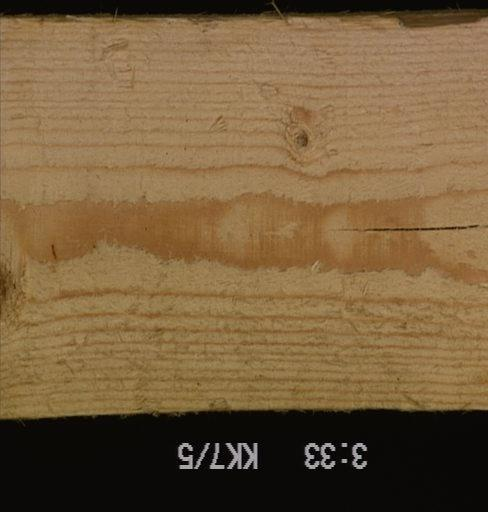sound_knot: (272, 101, 332, 167), (0, 215, 35, 326)
split: (328, 220, 486, 245)
wave: (244, 5, 479, 33)
